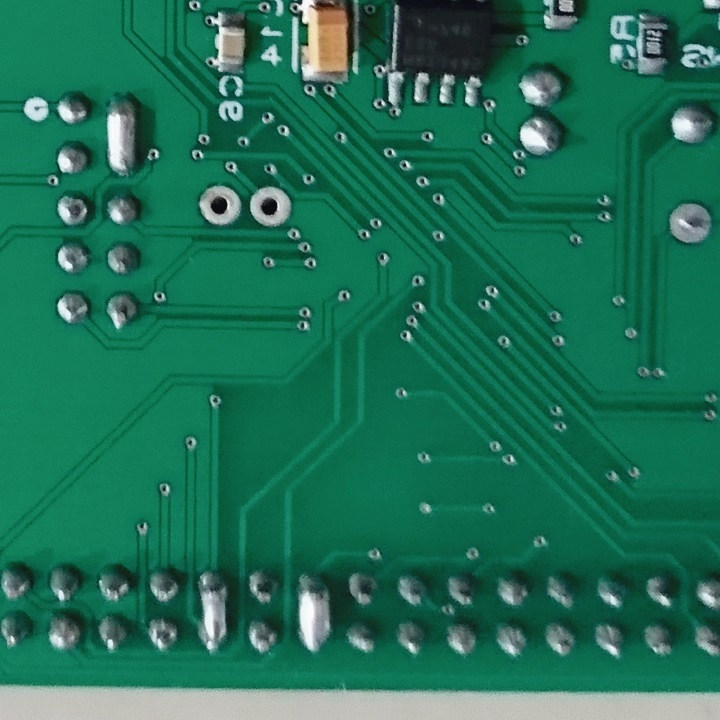F: (247, 181, 295, 238), (665, 198, 713, 250), (196, 180, 244, 230)
P: (193, 566, 235, 657), (102, 89, 143, 180), (293, 568, 335, 655)
